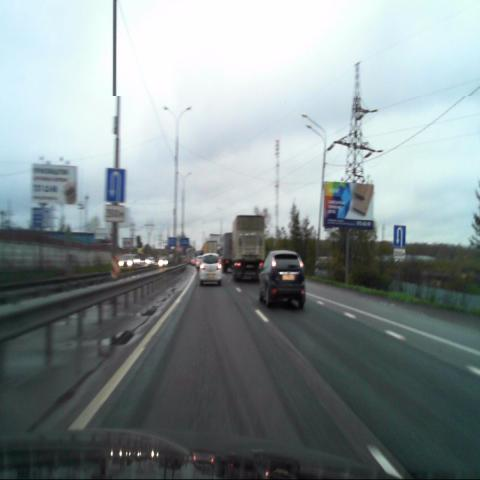8_1_1: (105, 204, 125, 223)
